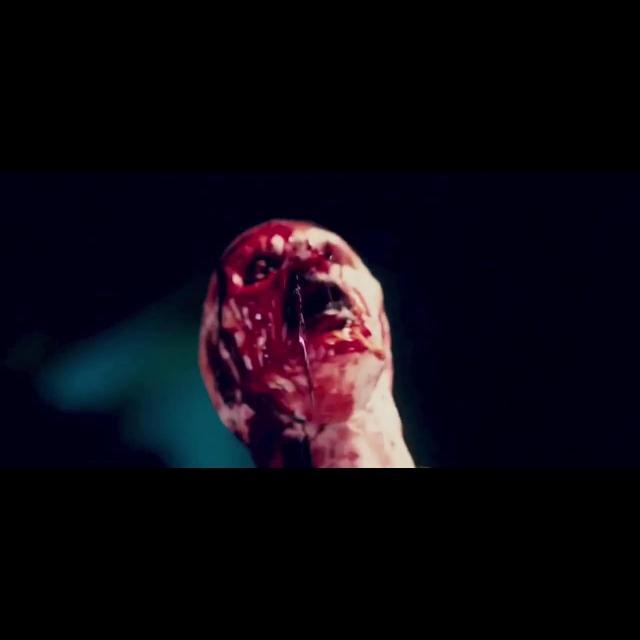blood: (199, 220, 388, 468)
